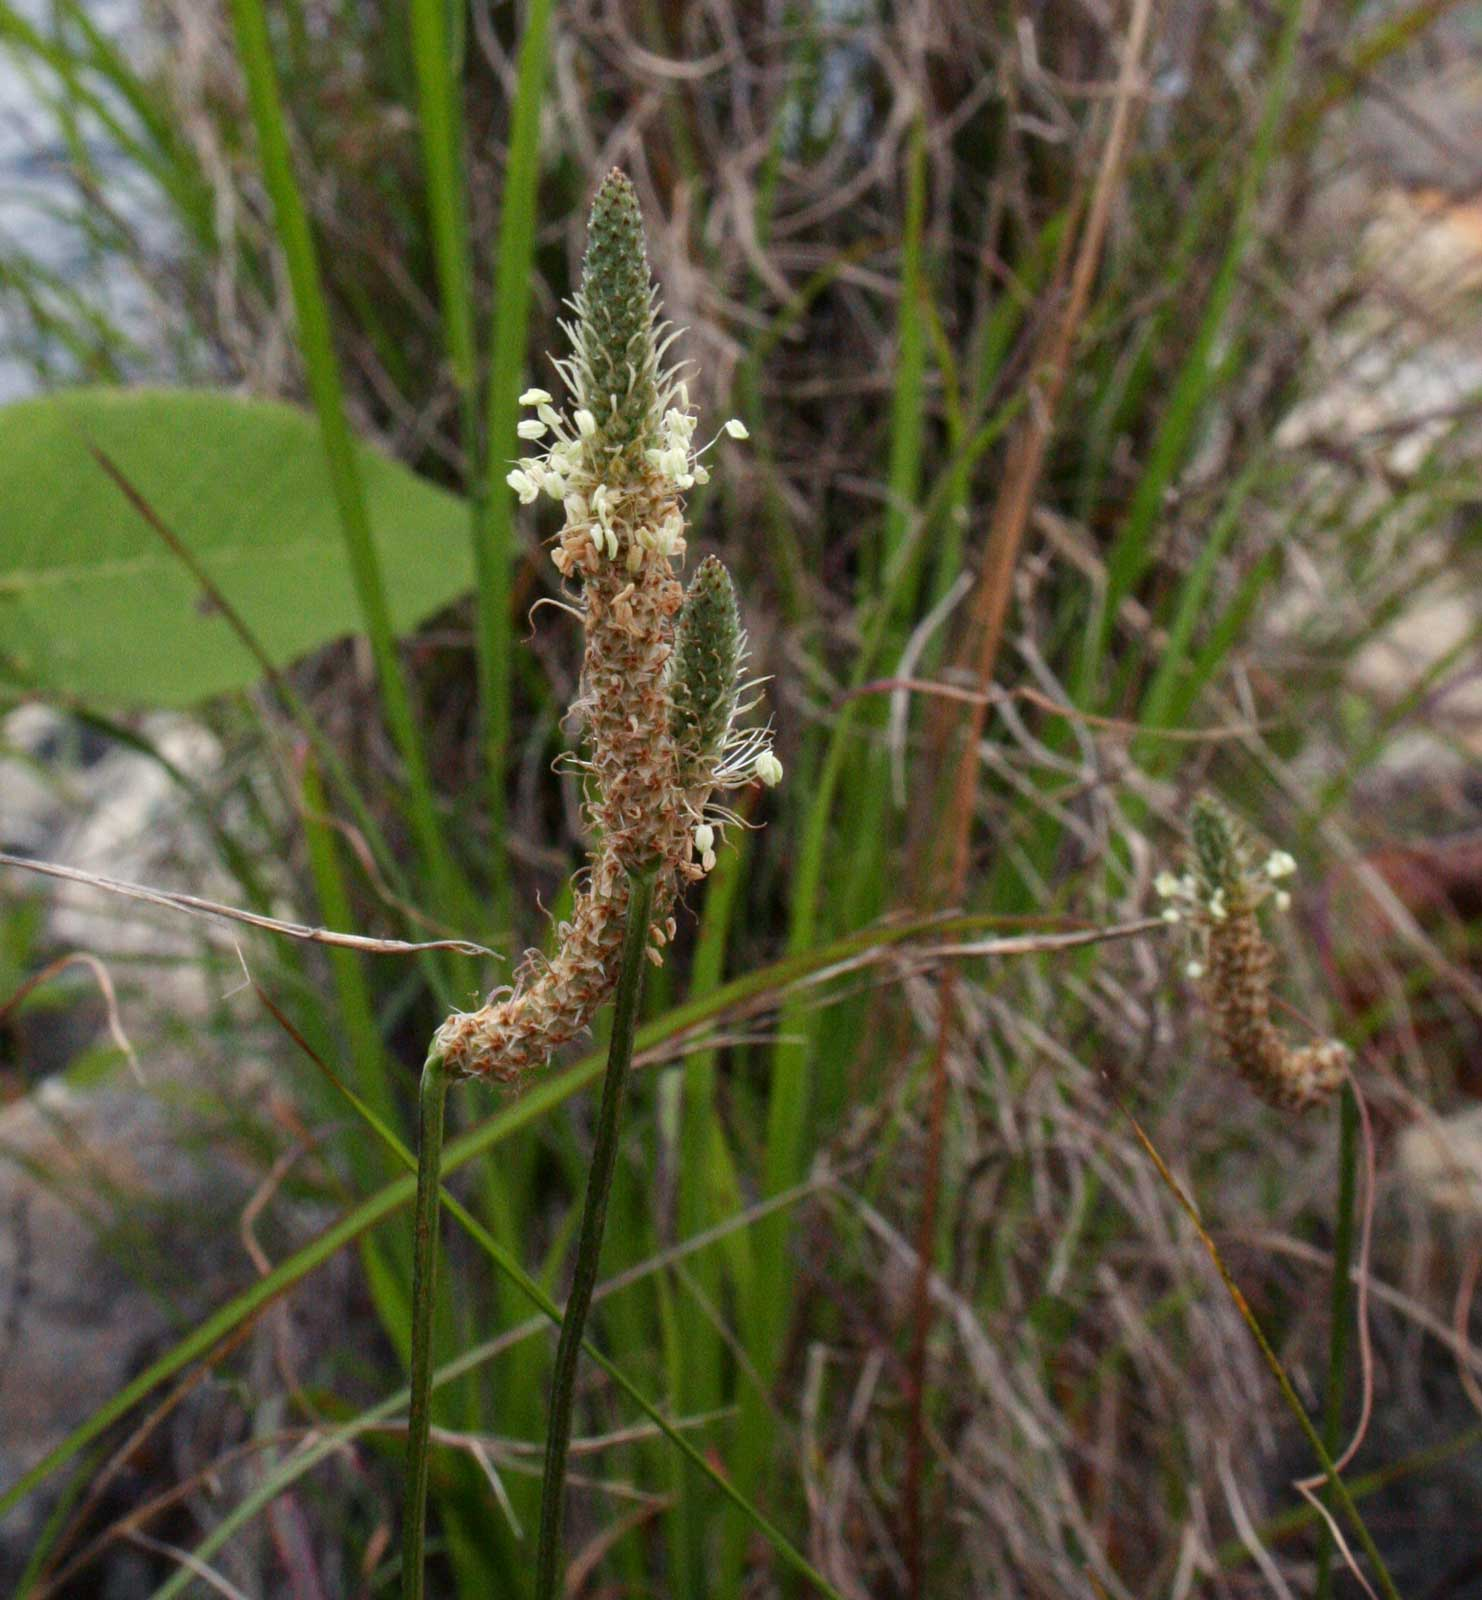buckhorn plantain: (519, 153, 813, 916)
